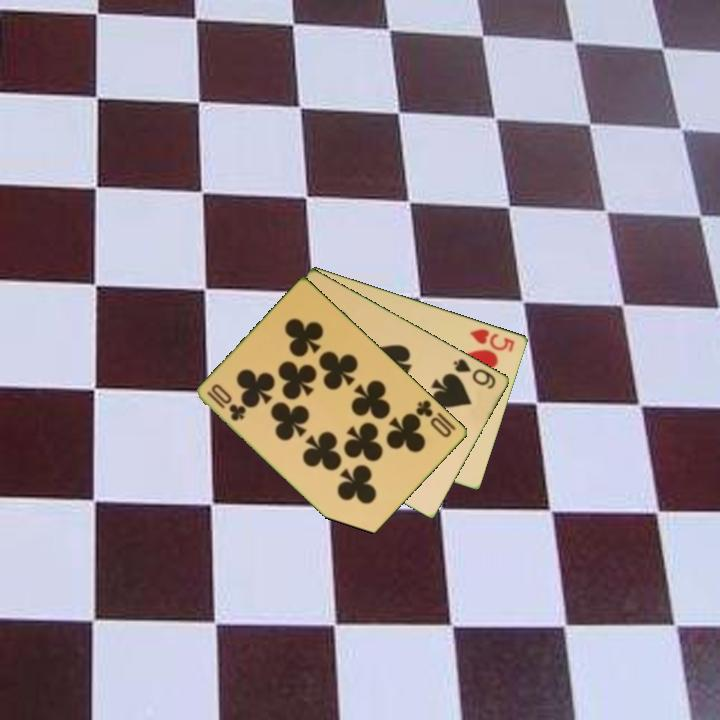10c: (412, 396, 455, 440), (204, 387, 249, 424)
5h: (466, 325, 518, 355)
6s: (450, 355, 499, 392)
